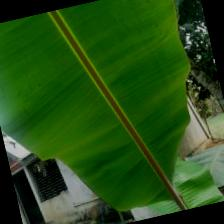healthy: (0, 0, 224, 224), (121, 150, 224, 221), (179, 141, 224, 196)
